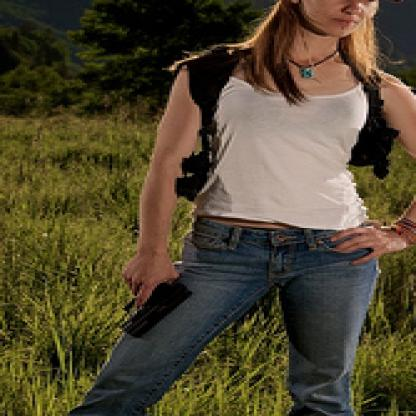gun: (110, 261, 194, 343)
